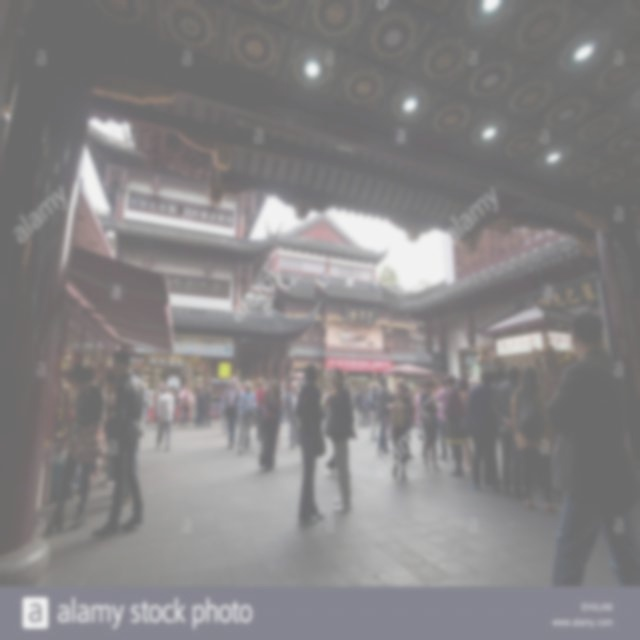pessoa: (541, 311, 638, 587), (38, 361, 110, 538), (90, 346, 146, 538), (510, 363, 558, 513), (293, 362, 327, 526), (460, 368, 503, 493), (56, 362, 94, 502), (324, 366, 358, 514), (492, 364, 524, 501), (120, 368, 148, 506), (384, 376, 415, 482), (487, 458, 557, 500), (255, 379, 284, 472), (325, 380, 353, 476), (441, 372, 466, 479), (417, 377, 442, 472), (98, 371, 118, 488), (456, 376, 474, 473), (235, 380, 258, 455), (436, 376, 456, 461), (412, 382, 432, 458), (222, 375, 242, 450), (153, 385, 175, 451), (98, 374, 110, 478), (376, 376, 390, 456), (284, 380, 300, 449), (402, 385, 416, 460), (254, 378, 268, 446), (366, 380, 380, 442), (91, 376, 108, 426), (177, 385, 194, 428), (200, 381, 215, 429), (152, 378, 166, 426), (314, 388, 328, 434), (140, 382, 152, 430), (192, 387, 205, 429), (219, 387, 229, 437), (167, 386, 180, 424), (236, 382, 244, 427), (250, 382, 258, 427), (278, 381, 286, 424), (170, 388, 178, 429), (326, 386, 334, 424), (360, 386, 368, 424), (492, 368, 506, 388), (212, 389, 222, 416), (349, 384, 358, 414), (86, 459, 98, 480), (360, 388, 367, 423), (258, 376, 270, 396), (282, 384, 288, 420), (178, 402, 186, 428), (176, 383, 187, 401), (375, 387, 380, 425), (322, 388, 329, 413), (366, 388, 370, 427), (296, 380, 304, 394), (361, 407, 368, 422), (331, 384, 337, 396), (386, 388, 392, 398), (240, 382, 245, 394), (363, 386, 368, 396), (360, 386, 363, 393)
